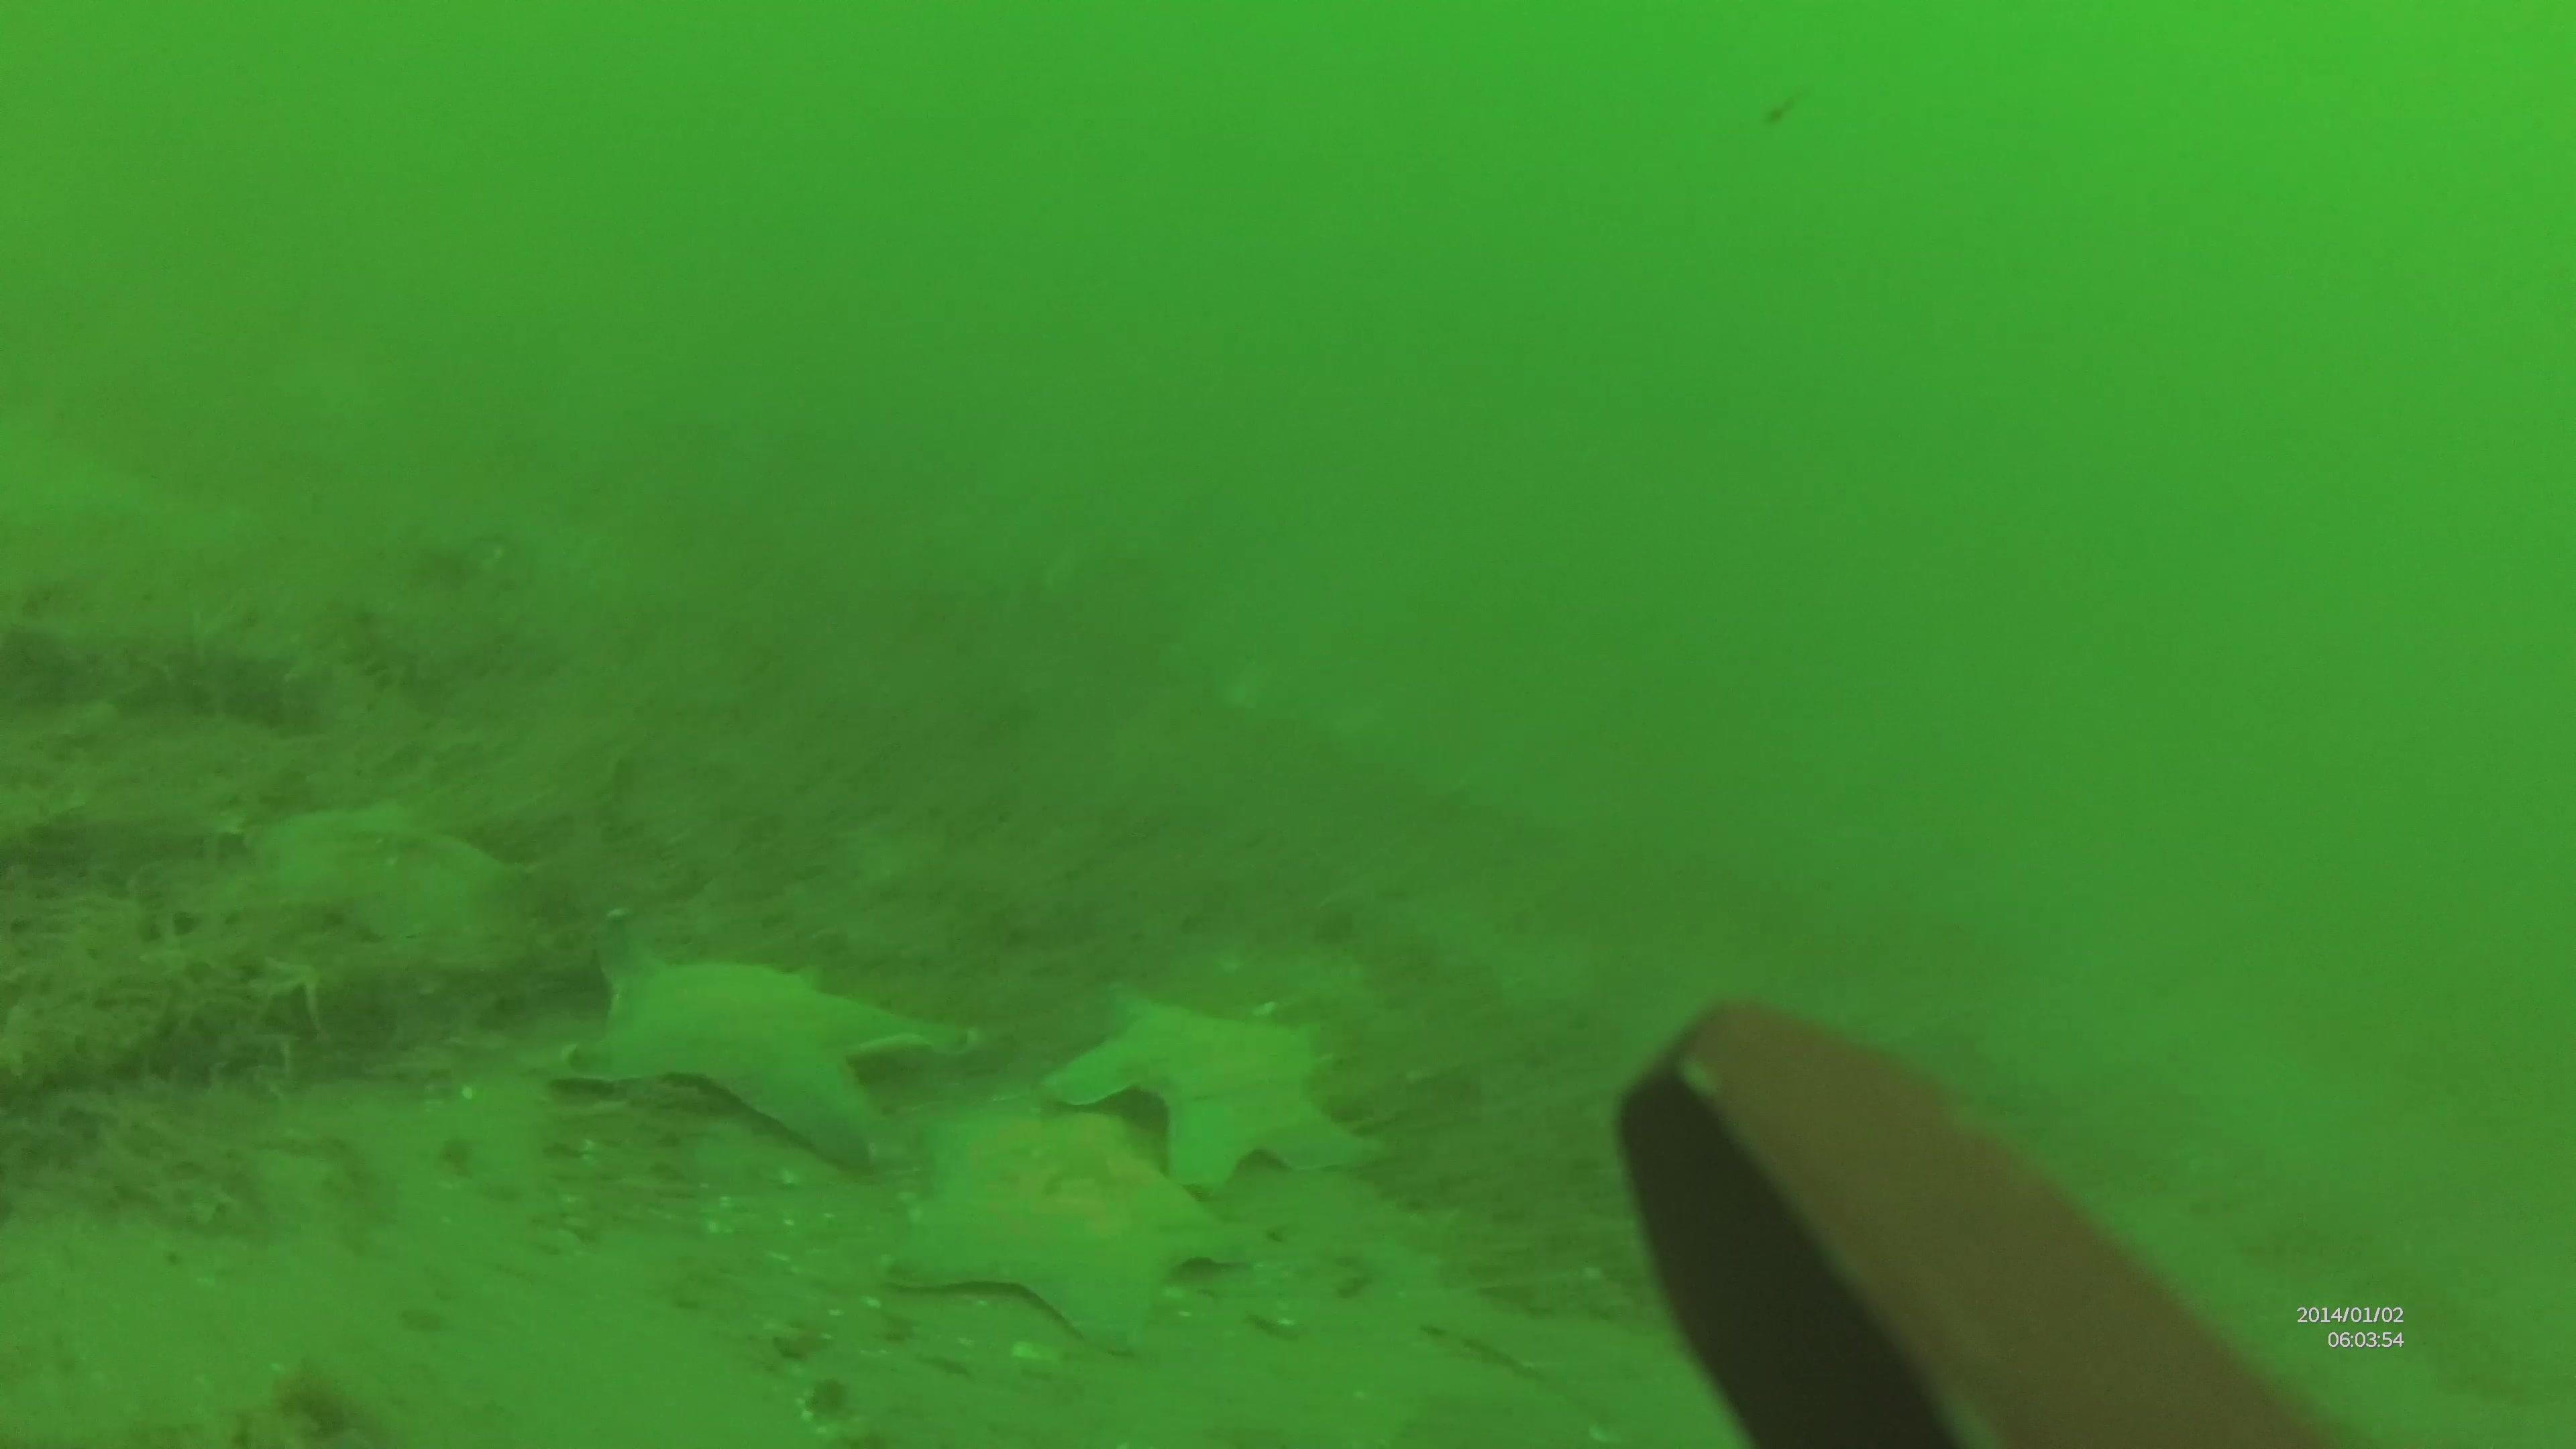starfish: (556, 906, 975, 1171), (855, 1088, 1238, 1323), (1049, 978, 1376, 1194), (221, 787, 538, 968)
